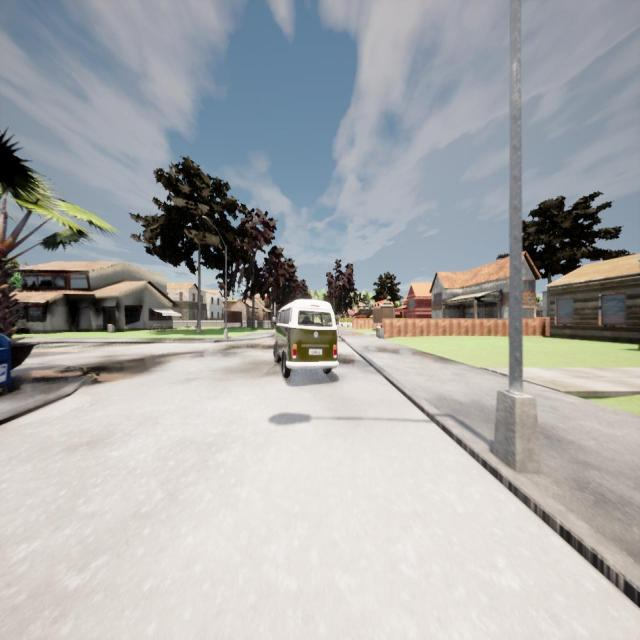Vehicle: (273, 299, 338, 377)
